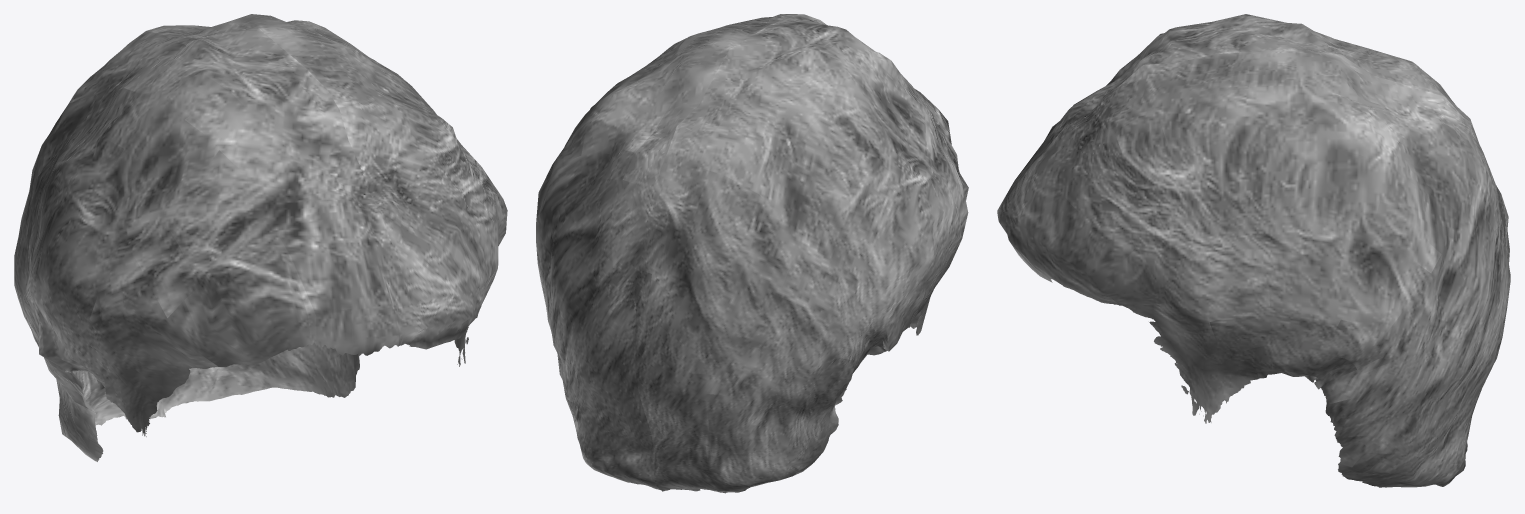
The model's file is hair-male.glb.
3 views of the same model, side by side, from view 1: azimuth 30°, elevation 25°; view 2: azimuth 150°, elevation 25°; view 3: azimuth 270°, elevation 25° (orthographic). The views are drawn at different scales.
Parts seen in each view (by area): view 1: hair; view 2: hair; view 3: hair.
Part boxes in pixels (box(x1,y1,x2,y2)): hair: box(14, 14, 507, 461); hair: box(536, 14, 968, 493); hair: box(997, 14, 1510, 487).
Bounding box in the file's own units: 0.1995 × 0.2081 × 0.2333.
1 material, 1 textured.
